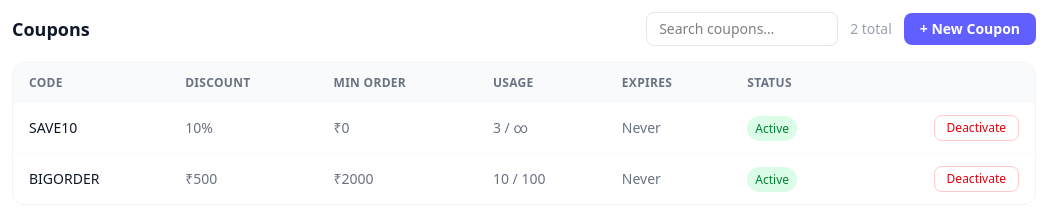
Scenario: CouponsTab › filters the list via search
Expected: the text "SAVE10" is shown, [13,103,169,154]
Type "BIG" into the search field with placeholder "Search coupons…" at (742, 29), box [646,12,838,46]
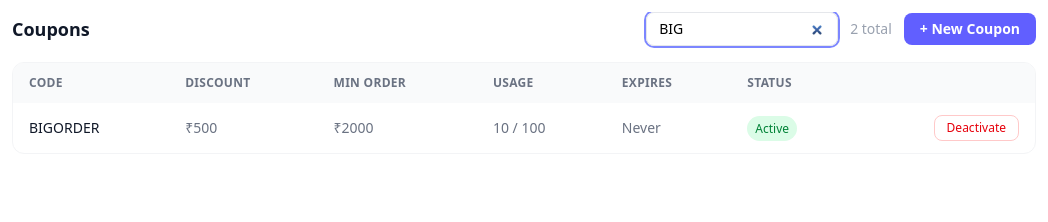
Expected: the text "BIGORDER" is shown, [13,103,169,153]
Result: the text "SAVE10" is gone
